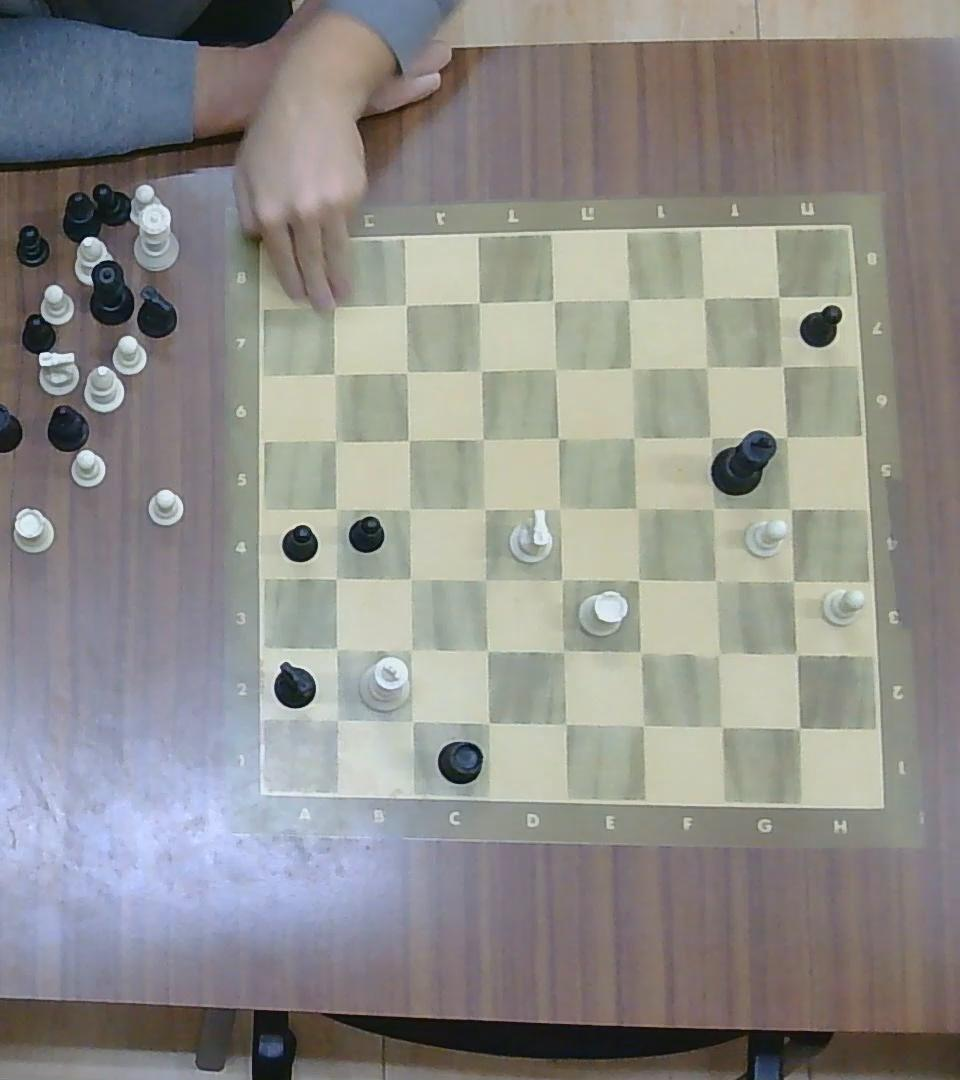xcorner: (702, 638, 734, 670), (625, 635, 656, 667), (705, 709, 736, 741), (626, 709, 657, 741), (320, 703, 352, 734), (549, 706, 579, 738), (471, 707, 502, 737), (396, 705, 427, 735), (781, 639, 812, 669), (548, 636, 578, 666), (783, 712, 813, 742), (700, 565, 730, 595), (548, 563, 577, 594), (623, 563, 652, 594), (320, 633, 351, 662), (472, 636, 501, 666), (615, 284, 645, 313), (319, 290, 348, 320), (471, 564, 500, 593), (623, 493, 652, 522), (699, 493, 728, 522), (465, 287, 494, 316), (776, 493, 805, 522), (547, 493, 575, 522), (543, 353, 571, 382), (777, 566, 806, 594), (619, 353, 647, 382), (396, 635, 424, 664), (540, 286, 568, 314), (392, 291, 420, 319), (621, 422, 648, 451), (471, 494, 499, 521), (693, 352, 721, 379), (467, 356, 495, 383), (769, 352, 797, 379), (692, 283, 719, 310), (396, 565, 423, 592), (698, 423, 725, 450), (546, 424, 572, 452), (471, 425, 497, 452), (320, 360, 348, 385), (323, 565, 349, 591), (324, 496, 350, 522), (396, 495, 422, 520), (323, 427, 348, 453), (774, 422, 799, 448), (396, 426, 421, 451), (394, 359, 419, 383), (768, 285, 791, 308)
